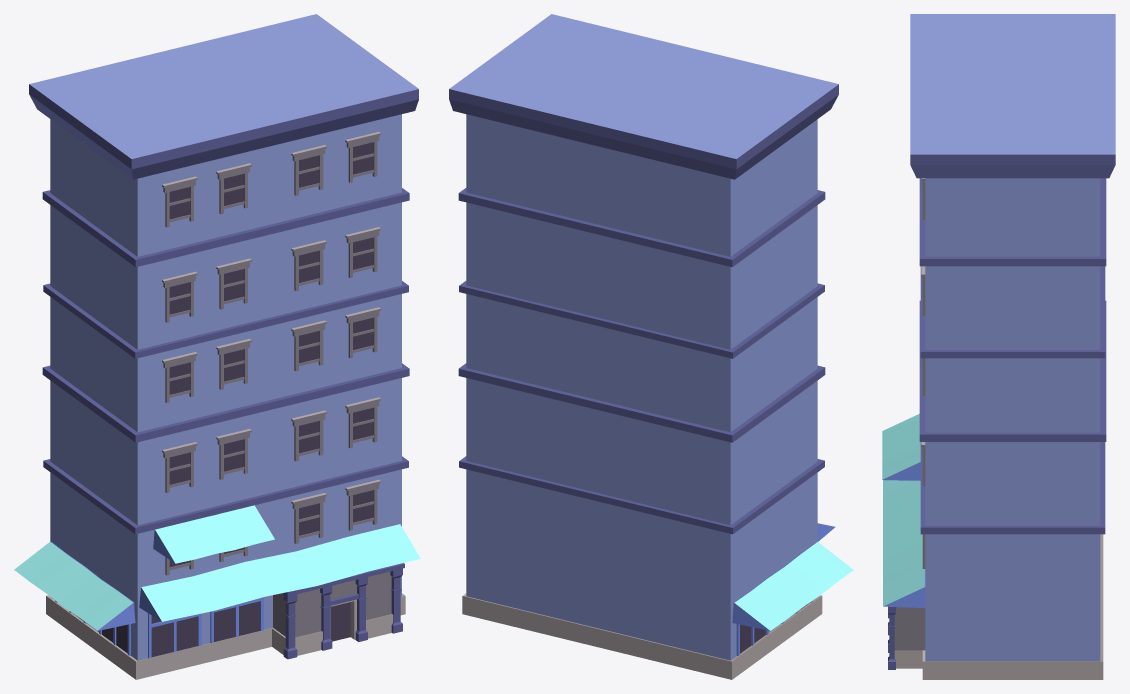
The model's file is rectangle building - blue.fbx.
3 views of the same model, side by side, from view 1: azimuth 30°, elevation 25°; view 2: azimuth 150°, elevation 25°; view 3: azimuth 270°, elevation 25° (orthographic).
Parts seen in each view (by area): view 1: pCube9 (×3), pCube17, pCube21, pCube18, pCube26, pCube25, pCube6, pCube7, pCube2, pCube8, pCube5; view 2: pCube9 (×3), pCube21; view 3: pCube9 (×3), pCube17, pCube18, pCube7.
Boxes of the visible parts, x1,y1,x2,y2 form: pCube9 (×3): (29, 14, 418, 679); pCube17: (139, 524, 420, 621); pCube21: (14, 541, 135, 630); pCube18: (153, 505, 274, 563); pCube26: (151, 615, 197, 657); pCube25: (214, 601, 260, 641); pCube6: (283, 594, 297, 659); pCube7: (390, 568, 402, 633); pCube2: (320, 586, 332, 650); pCube8: (355, 577, 367, 641); pCube5: (283, 563, 404, 596); pCube9 (×3): (449, 14, 838, 679); pCube21: (732, 542, 853, 630); pCube9 (×3): (894, 14, 1115, 679); pCube17: (883, 480, 925, 608); pCube18: (882, 414, 920, 480); pCube7: (888, 606, 895, 669).
Bounding box in the file's own units: 16.82 × 27.19 × 10.88.
